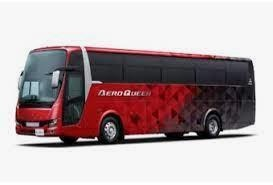bus: (15, 46, 256, 144)
